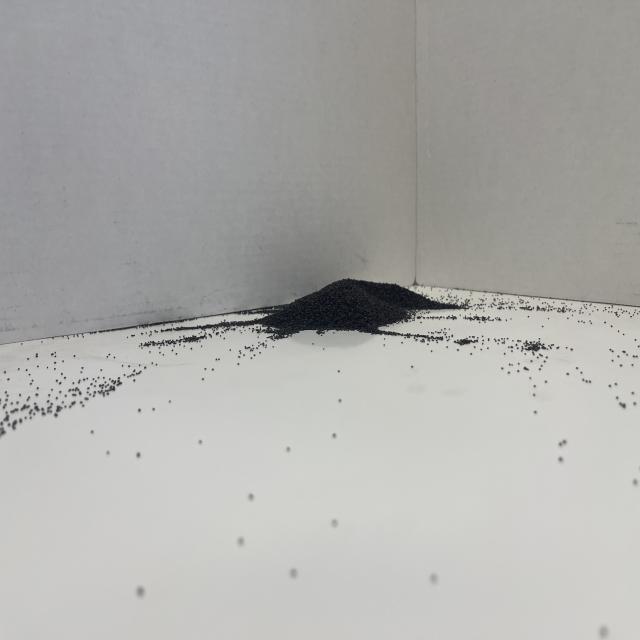Poppy Seeds: (237, 244, 448, 352)
